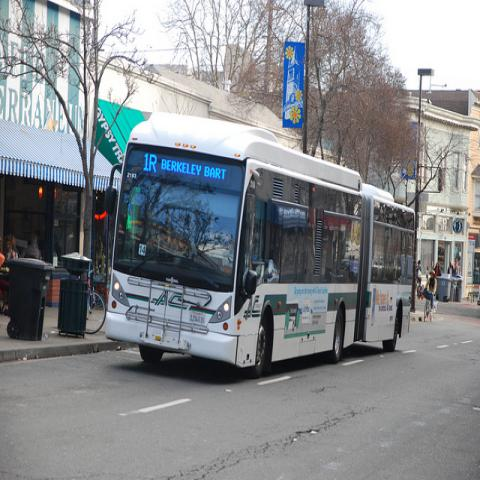bus: (107, 112, 420, 369)
